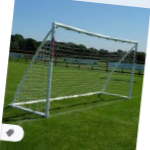goals: (8, 20, 139, 115)
